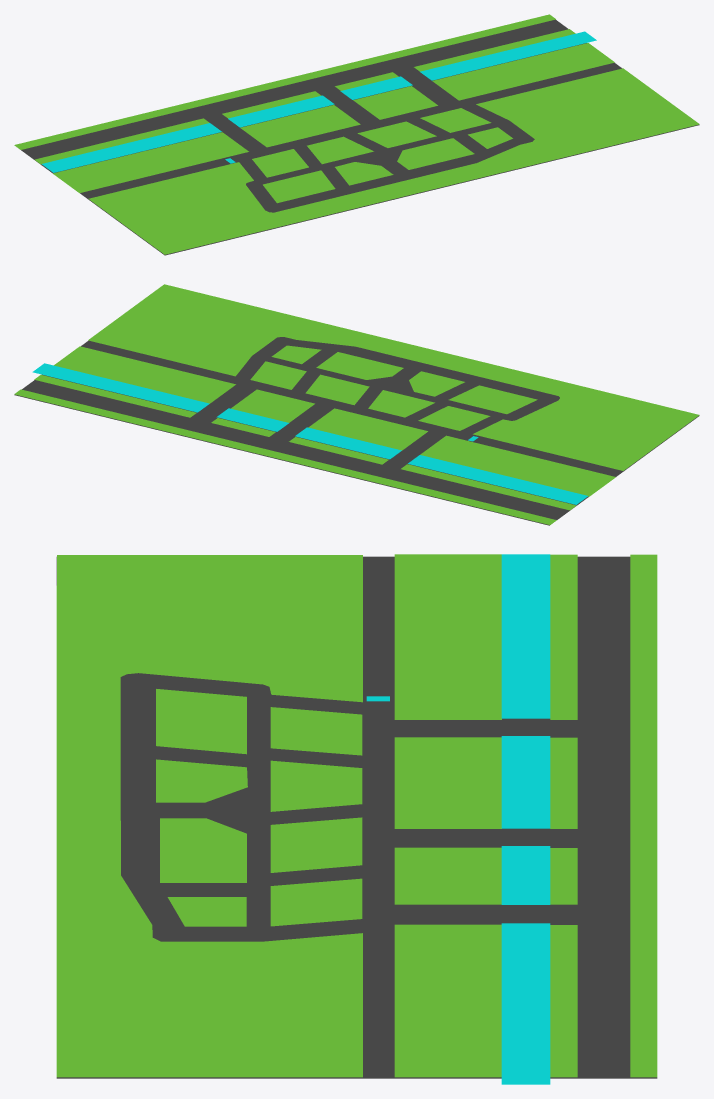
Rendered from map_01_02.fbx.
3 renders of one model, top to bottom at view 1: azimuth 30°, elevation 25°; view 2: azimuth 150°, elevation 25°; view 3: azimuth 270°, elevation 25°, orthographic. The views are drawn at different scales.
Parts seen in each view (by area): view 1: grass_base, tar_road, water_plane, sand_base_3, sand_base_1, sand_base_2; view 2: grass_base, tar_road, water_plane, sand_base_3, sand_base_1, sand_base_2; view 3: grass_base, tar_road, water_plane, sand_base_3, sand_base_1, sand_base_2.
Boxes of the visible parts, x1,y1,x2,y2 form: grass_base: [14, 14, 699, 254]; tar_road: [21, 19, 699, 255]; water_plane: [42, 31, 596, 172]; sand_base_3: [397, 138, 474, 169]; sand_base_1: [420, 108, 491, 132]; sand_base_2: [468, 127, 512, 148]; grass_base: [14, 284, 699, 524]; tar_road: [14, 337, 699, 525]; water_plane: [32, 363, 587, 504]; sand_base_3: [316, 352, 403, 379]; sand_base_1: [250, 361, 306, 389]; sand_base_2: [271, 345, 321, 364]; grass_base: [56, 554, 657, 1077]; tar_road: [56, 556, 657, 1078]; water_plane: [501, 554, 550, 1084]; sand_base_3: [160, 818, 246, 882]; sand_base_1: [270, 878, 362, 926]; sand_base_2: [167, 897, 246, 926].
Size of the model in its own units: 1384 by 2.81 by 661.
